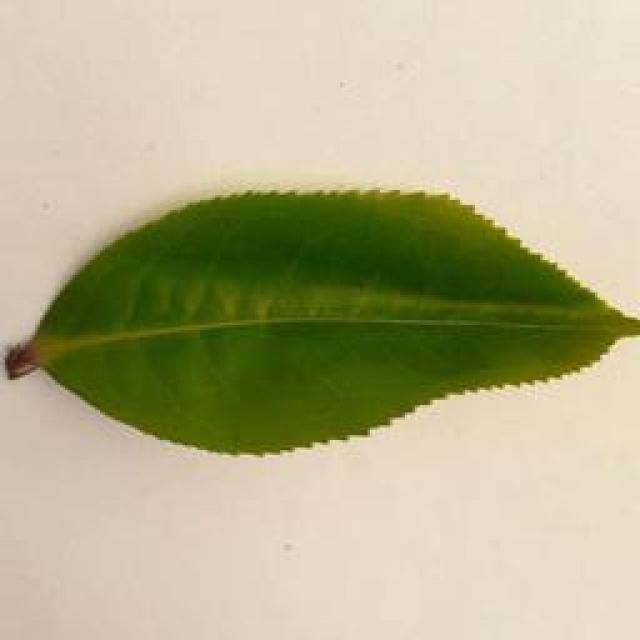Healthy: (14, 174, 640, 455)
